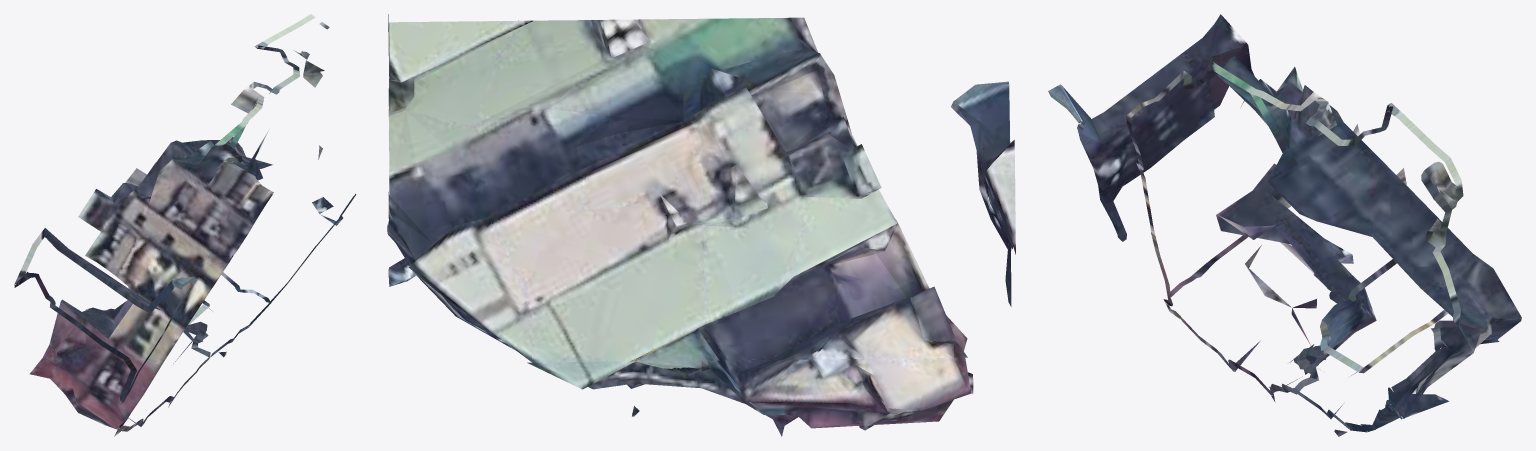
3 renders of one model, left to right at view 1: azimuth 30°, elevation 25°; view 2: azimuth 150°, elevation 25°; view 3: azimuth 270°, elevation 25°, orthographic. The views are drawn at different scales.
Bounding box in the file's own units: 35.75 × 25.64 × 28.75.
1 material, 1 textured.
